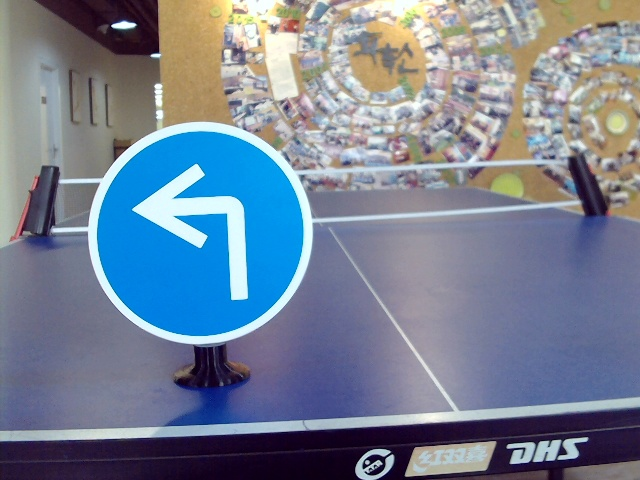turn_left: (134, 162, 257, 303)
